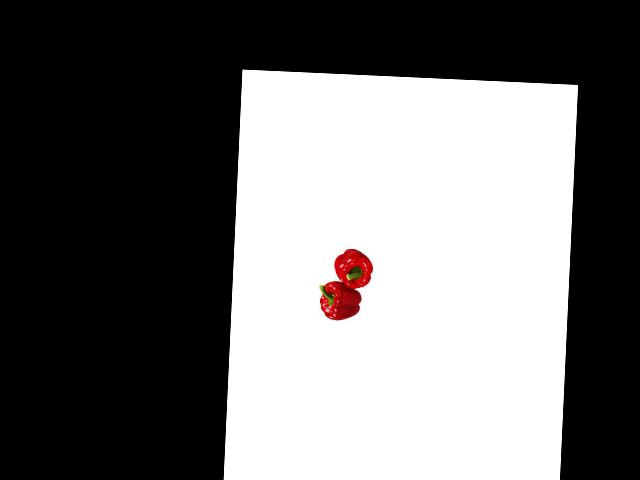bell_pepper: (316, 279, 365, 322)
